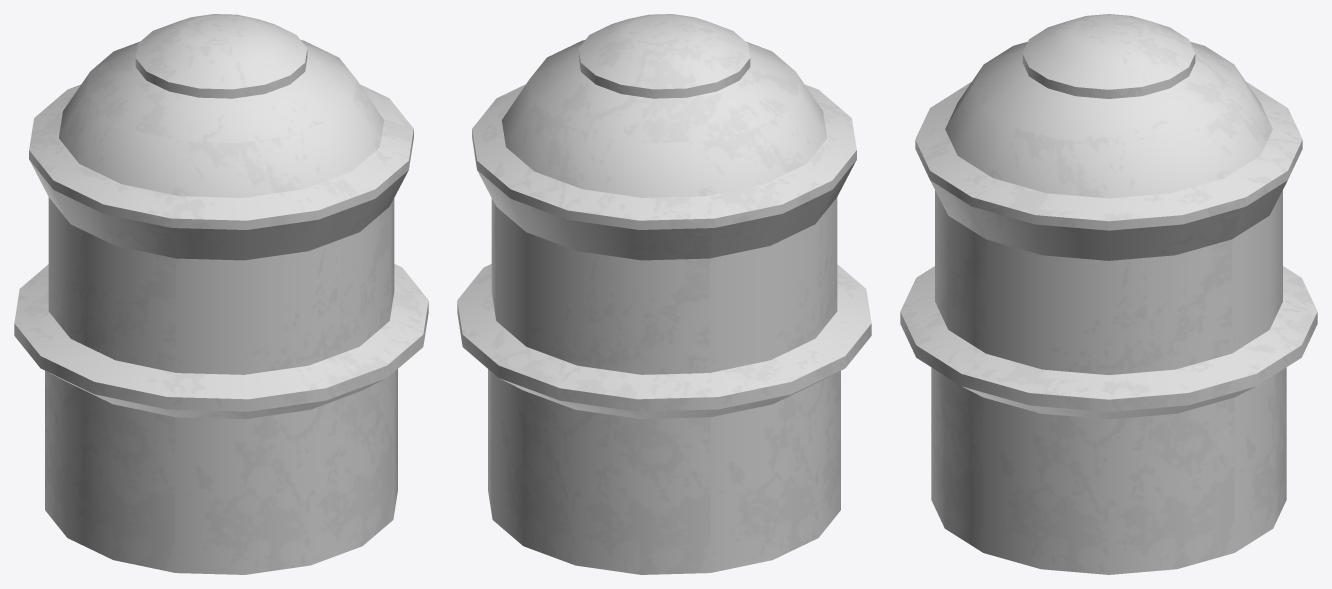
Rendered from Steam Train Body_D_001.fbx.
The picture shows the model from 3 angles, left to right: view 1: azimuth 30°, elevation 25°; view 2: azimuth 150°, elevation 25°; view 3: azimuth 270°, elevation 25°; orthographic projection.
Visible parts, largest first — view 1: Steam_Train_Body_D_001; view 2: Steam_Train_Body_D_001; view 3: Steam_Train_Body_D_001.
Boxes of the visible parts, bbox=[...] form: Steam_Train_Body_D_001: bbox=[14, 14, 428, 574]; Steam_Train_Body_D_001: bbox=[457, 14, 871, 574]; Steam_Train_Body_D_001: bbox=[900, 14, 1317, 574].
Bounding box in the file's own units: 77.19 × 95.5 × 77.19.
2 materials, 2 textured.
